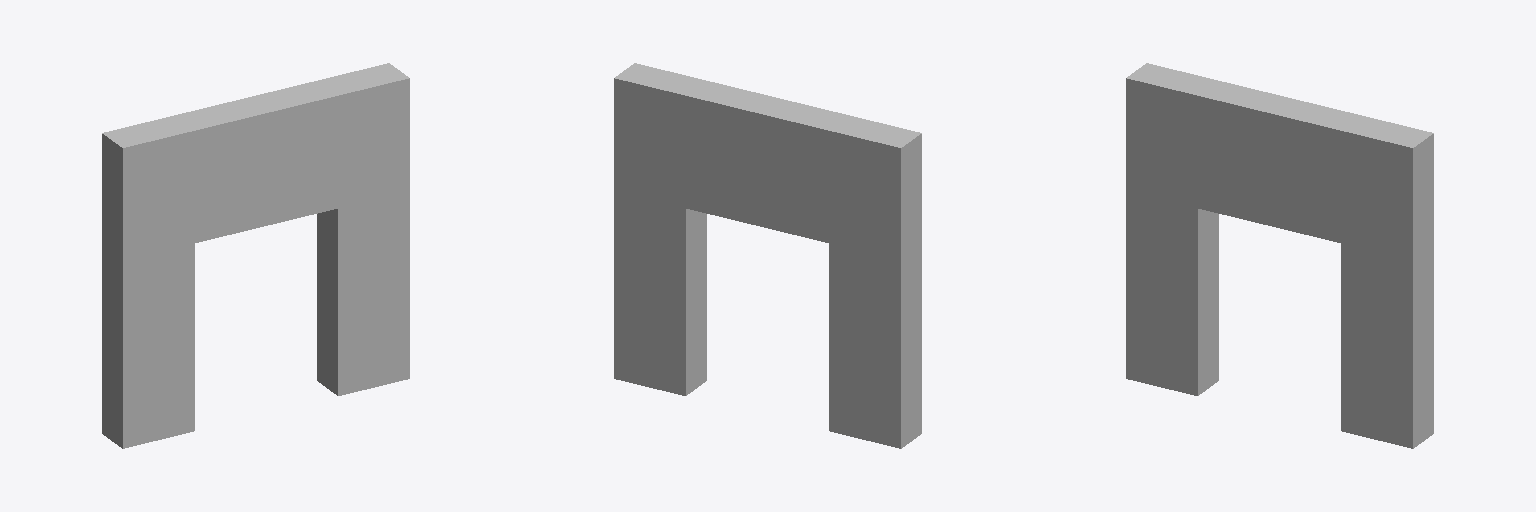
Rendered from Menu Scene 03-58.obj.
The picture shows the model from 3 angles: view 1: azimuth 30°, elevation 25°; view 2: azimuth 150°, elevation 25°; view 3: azimuth 330°, elevation 25°; orthographic projection.
Parts seen in each view (by area): view 1: Menu Scene 03-58; view 2: Menu Scene 03-58; view 3: Menu Scene 03-58.
Boxes of the visible parts, x1,y1,x2,y2 form: Menu Scene 03-58: [102, 63, 409, 448]; Menu Scene 03-58: [614, 63, 921, 448]; Menu Scene 03-58: [1126, 63, 1433, 448].
Size of the model in its own units: 64 by 64 by 8.